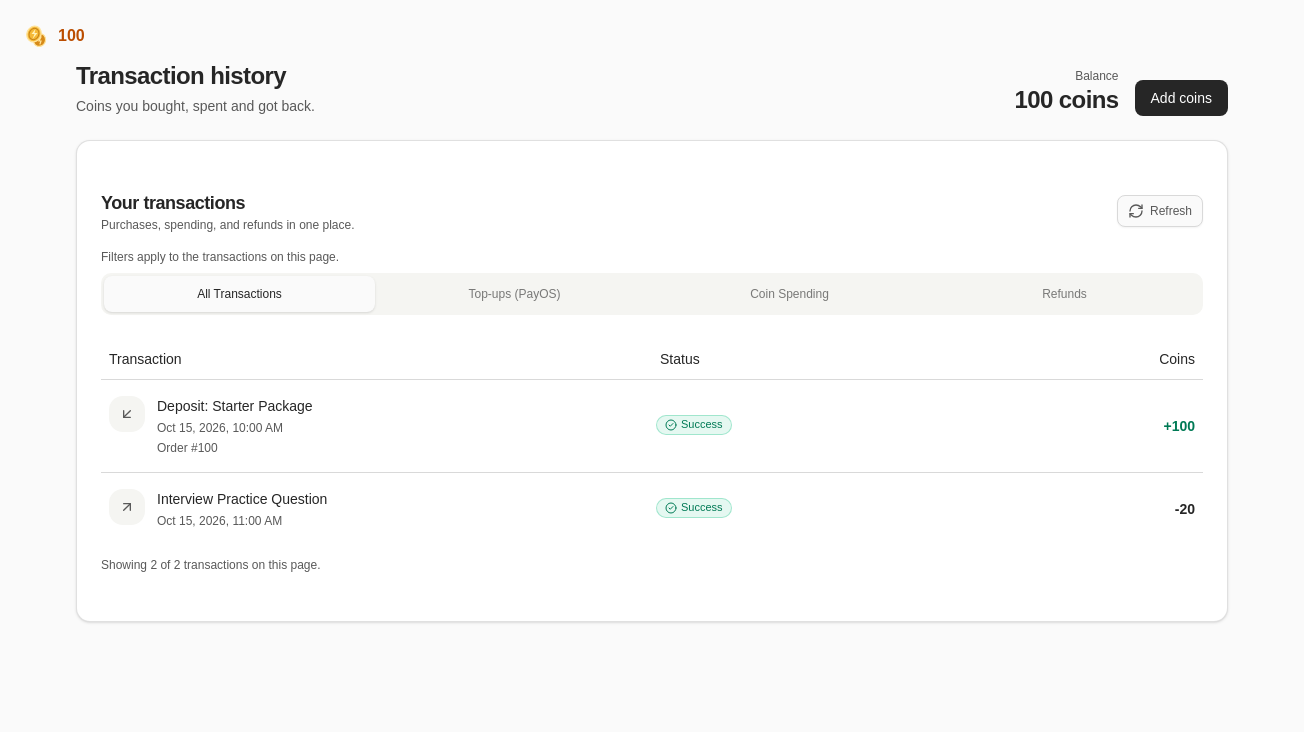
Test: BillingOverview › filters transactions by sliding tab
The width and height of the screenshot is (1304, 732).
Expected: the text "Deposit: Starter Package" is shown, x1=157 y1=396 x2=313 y2=416
Expected: the text "Interview Practice Question" is shown, x1=157 y1=488 x2=327 y2=508
Note: Switch to Coin Spending tab
Step 1. Press the mouse on the tab "Coin Spending" → (790, 294), box x1=654 y1=276 x2=925 y2=312
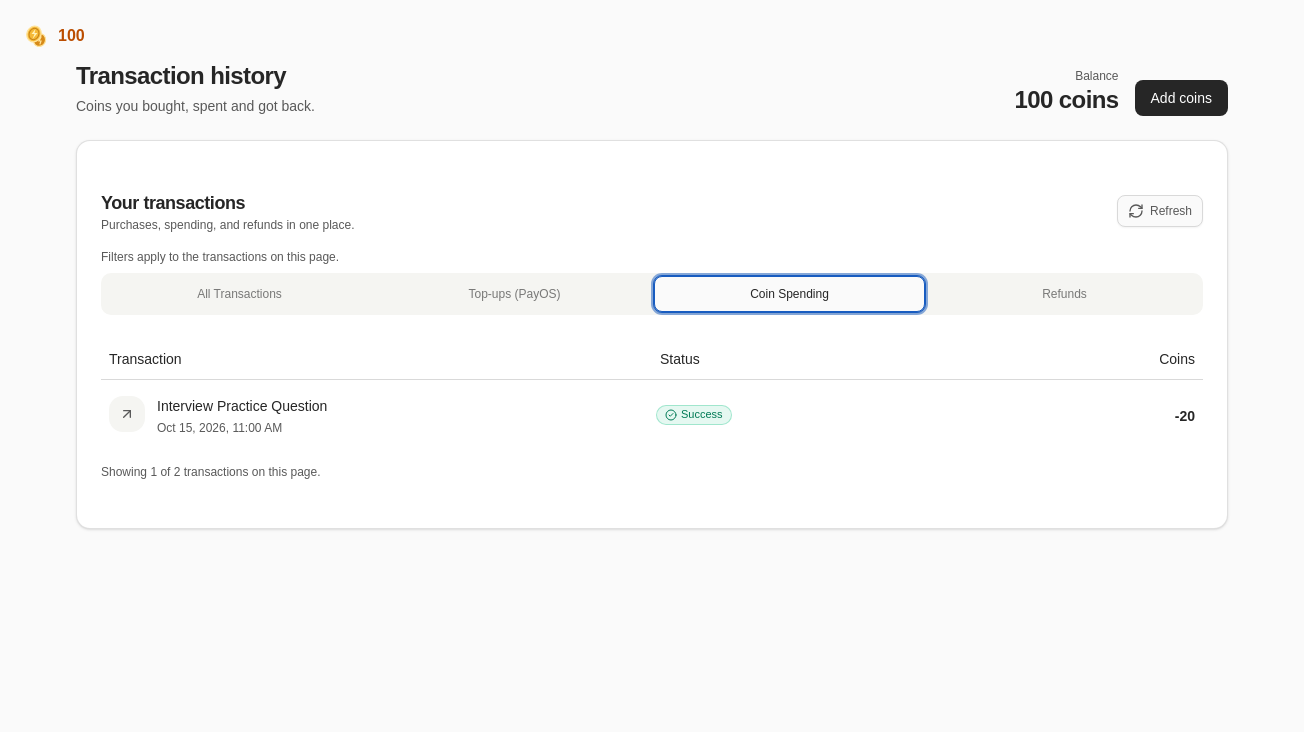
Expected: the text "Interview Practice Question" is shown, x1=157 y1=396 x2=327 y2=416
Now the text "Deposit: Starter Package" is gone
Step 2. Press the mouse on the tab "Top-ups (PayOS)" → (514, 294), box x1=379 y1=276 x2=650 y2=312
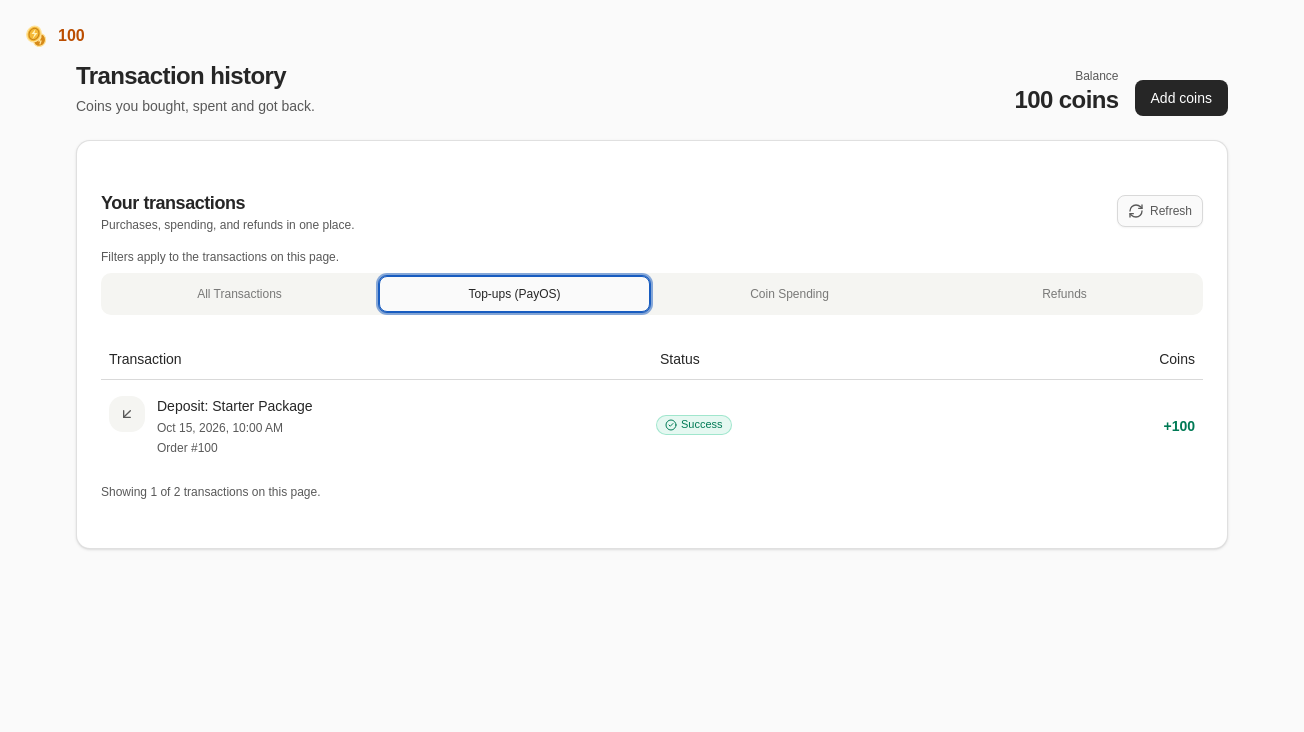
Now the text "Deposit: Starter Package" is shown, box x1=157 y1=396 x2=313 y2=416
Now the text "Interview Practice Question" is gone
